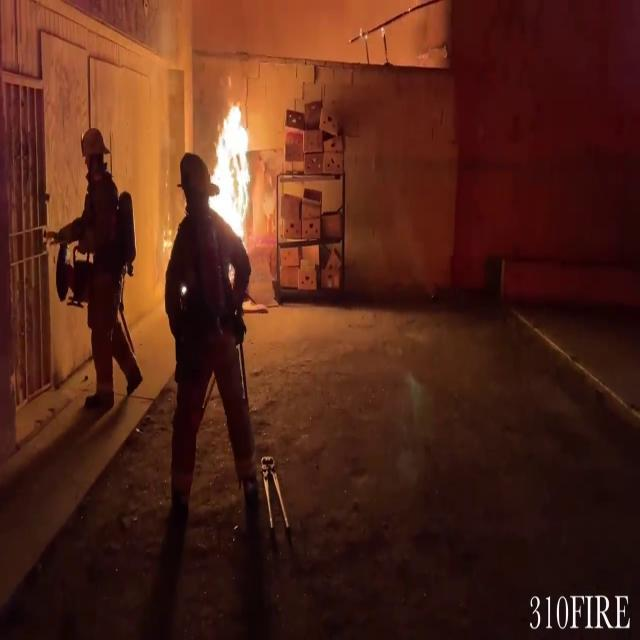Fire: (206, 94, 258, 244)
